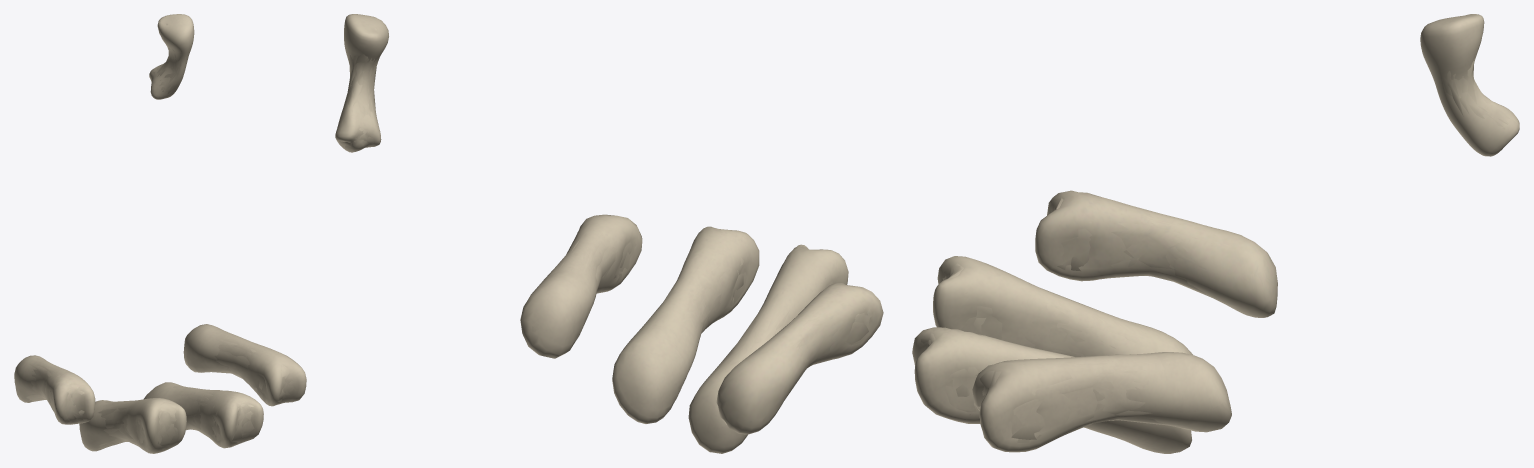
The model's file is FR 1st Phalanx.fbx.
The picture shows the model from 3 angles, left to right: view 1: azimuth 30°, elevation 25°; view 2: azimuth 150°, elevation 25°; view 3: azimuth 270°, elevation 25°; orthographic projection. The views are drawn at different scales.
Parts seen in each view (by area): view 1: FR 1st Phalanx high, FR 1st Phalanx, FR 1st Phalanx low; view 2: FR 1st Phalanx high, FR 1st Phalanx, FR 1st Phalanx low; view 3: FR 1st Phalanx high, FR 1st Phalanx, FR 1st Phalanx low.
Part boxes in pixels (x1,y1,x2,y2): FR 1st Phalanx high: [14, 14, 306, 453]; FR 1st Phalanx: [26, 23, 298, 449]; FR 1st Phalanx low: [26, 51, 293, 446]; FR 1st Phalanx high: [335, 14, 883, 453]; FR 1st Phalanx: [339, 28, 872, 423]; FR 1st Phalanx low: [339, 55, 868, 399]; FR 1st Phalanx high: [912, 14, 1519, 453]; FR 1st Phalanx: [920, 71, 1509, 442]; FR 1st Phalanx low: [921, 55, 1507, 439].
Size of the model in its own units: 9.04 by 10.98 by 11.28.
